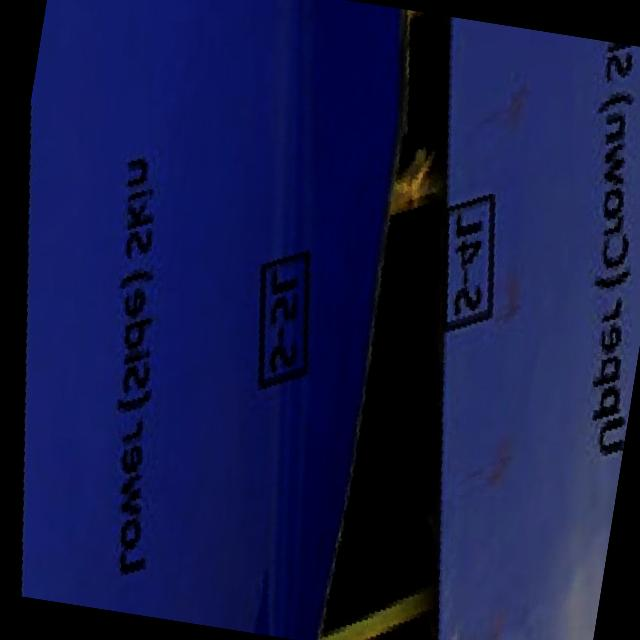crack: (293, 10, 543, 640)
